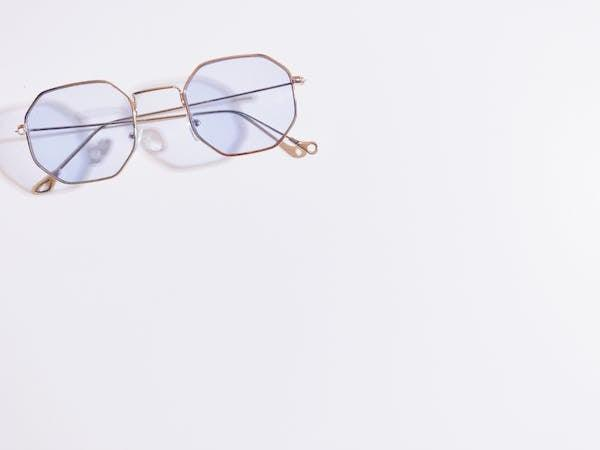eyeglasses: (10, 37, 324, 201)
